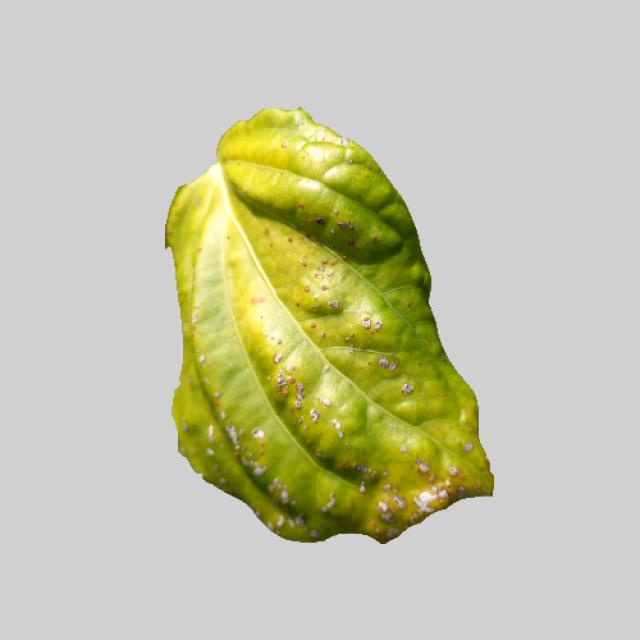yellow-mottle-virus: (148, 119, 496, 545)
